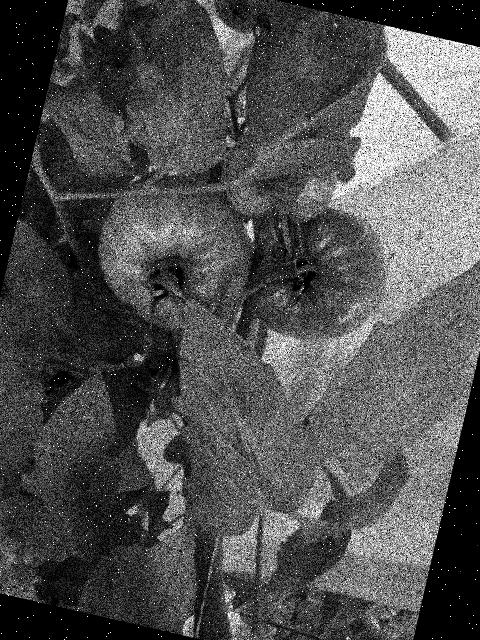b_green: (205, 0, 265, 37)
b_half_ripened: (82, 159, 268, 346), (234, 191, 401, 355), (212, 116, 346, 236)
